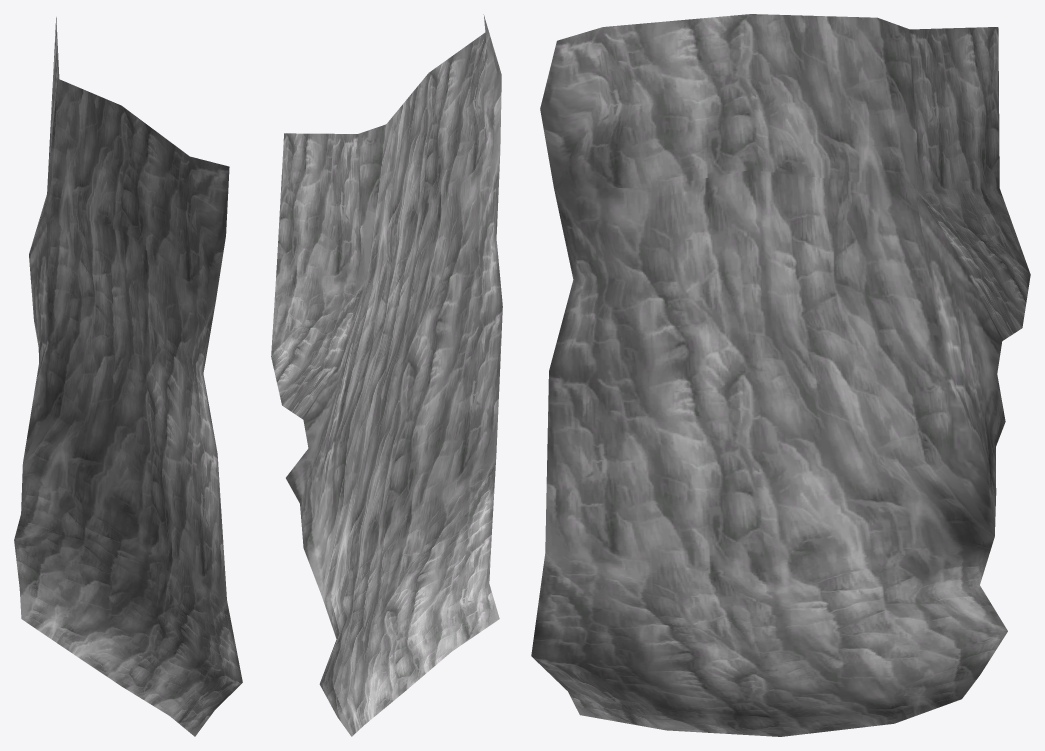
File: SWORDLIGHT20_PS-AREA03_165.fbx
The picture shows the model from 3 angles, left to right: view 1: azimuth 30°, elevation 25°; view 2: azimuth 150°, elevation 25°; view 3: azimuth 270°, elevation 25°; orthographic projection. The views are drawn at different scales.
Visible parts, largest first — view 1: SWORDLIGHT20_PS-AREA03_165; view 2: SWORDLIGHT20_PS-AREA03_165; view 3: SWORDLIGHT20_PS-AREA03_165.
Part boxes in pixels (box(x1,y1,x2,y2)): SWORDLIGHT20_PS-AREA03_165: box(14, 17, 242, 736); SWORDLIGHT20_PS-AREA03_165: box(271, 14, 502, 736); SWORDLIGHT20_PS-AREA03_165: box(531, 14, 1030, 736).
Size of the model in its own units: 20328 by 205816 by 128580.
2 materials, 2 textured.
